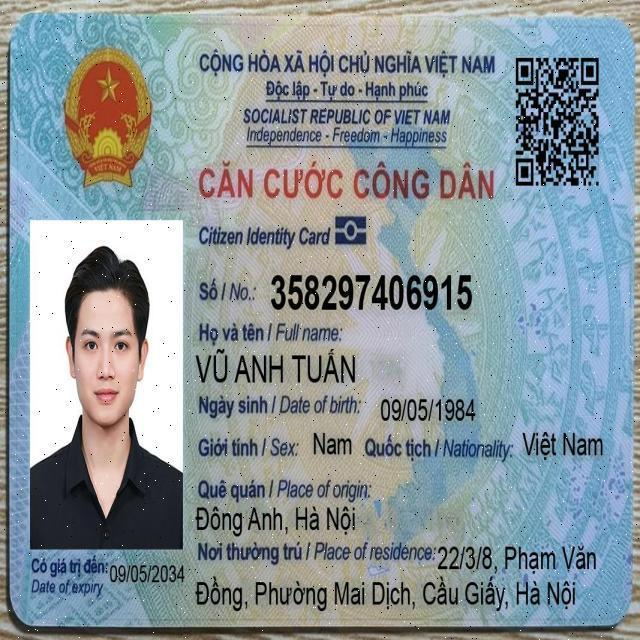current_place: (190, 573, 579, 615), (434, 537, 600, 577)
dob: (377, 390, 479, 430)
expire_date: (106, 558, 188, 588)
gender: (309, 426, 355, 463)
id: (268, 266, 476, 318)
name: (193, 343, 360, 391)
nationality: (518, 425, 608, 467)
origin_place: (191, 498, 359, 541)
